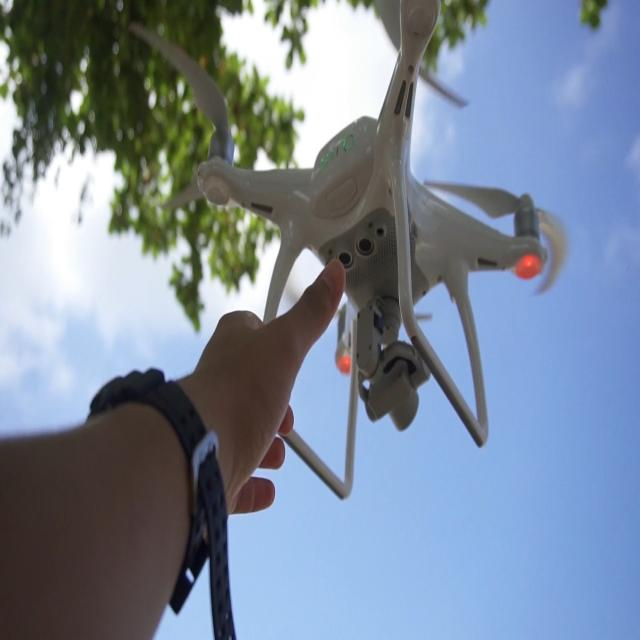Drone: (180, 5, 562, 447)
